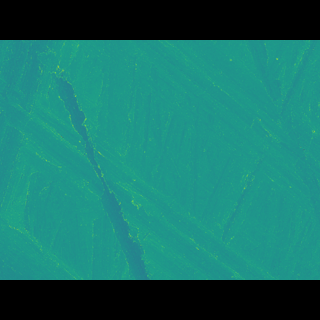Loch: (0, 100, 288, 249), (74, 70, 320, 204), (44, 90, 153, 250), (0, 201, 85, 251)
